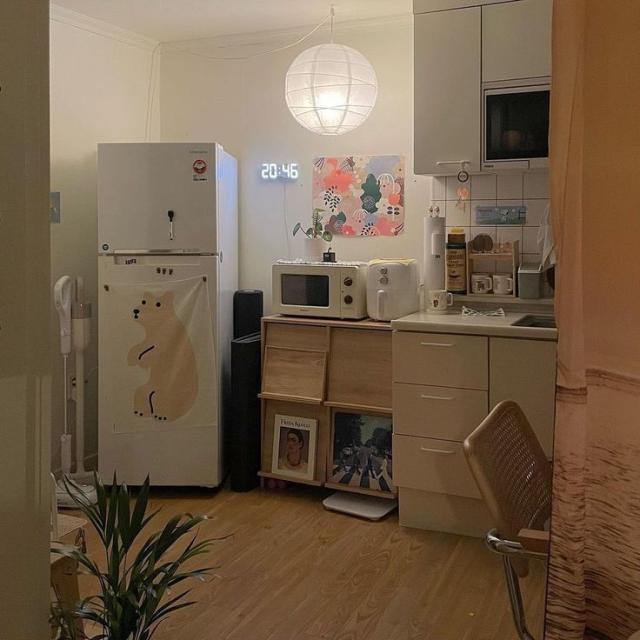obstacle: (96, 140, 240, 490), (412, 0, 552, 176), (460, 398, 552, 639)
person: (277, 428, 307, 472)
